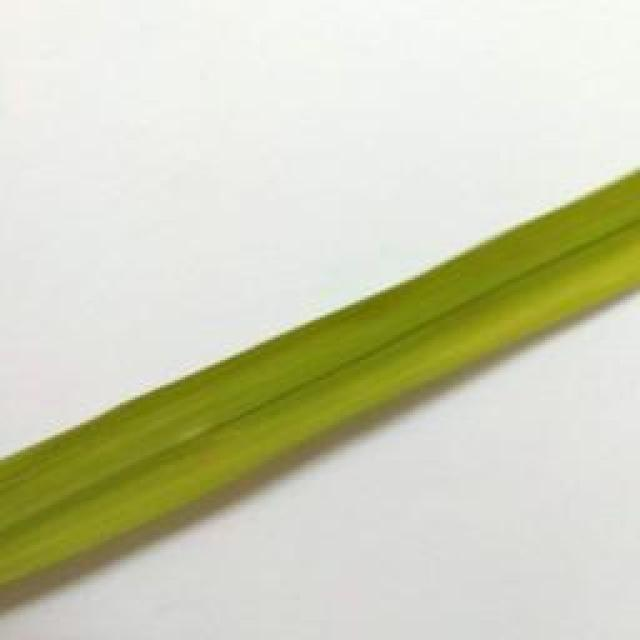Healthy-Plant: (0, 375, 183, 612), (328, 236, 493, 454), (185, 310, 329, 524), (491, 170, 639, 355)
